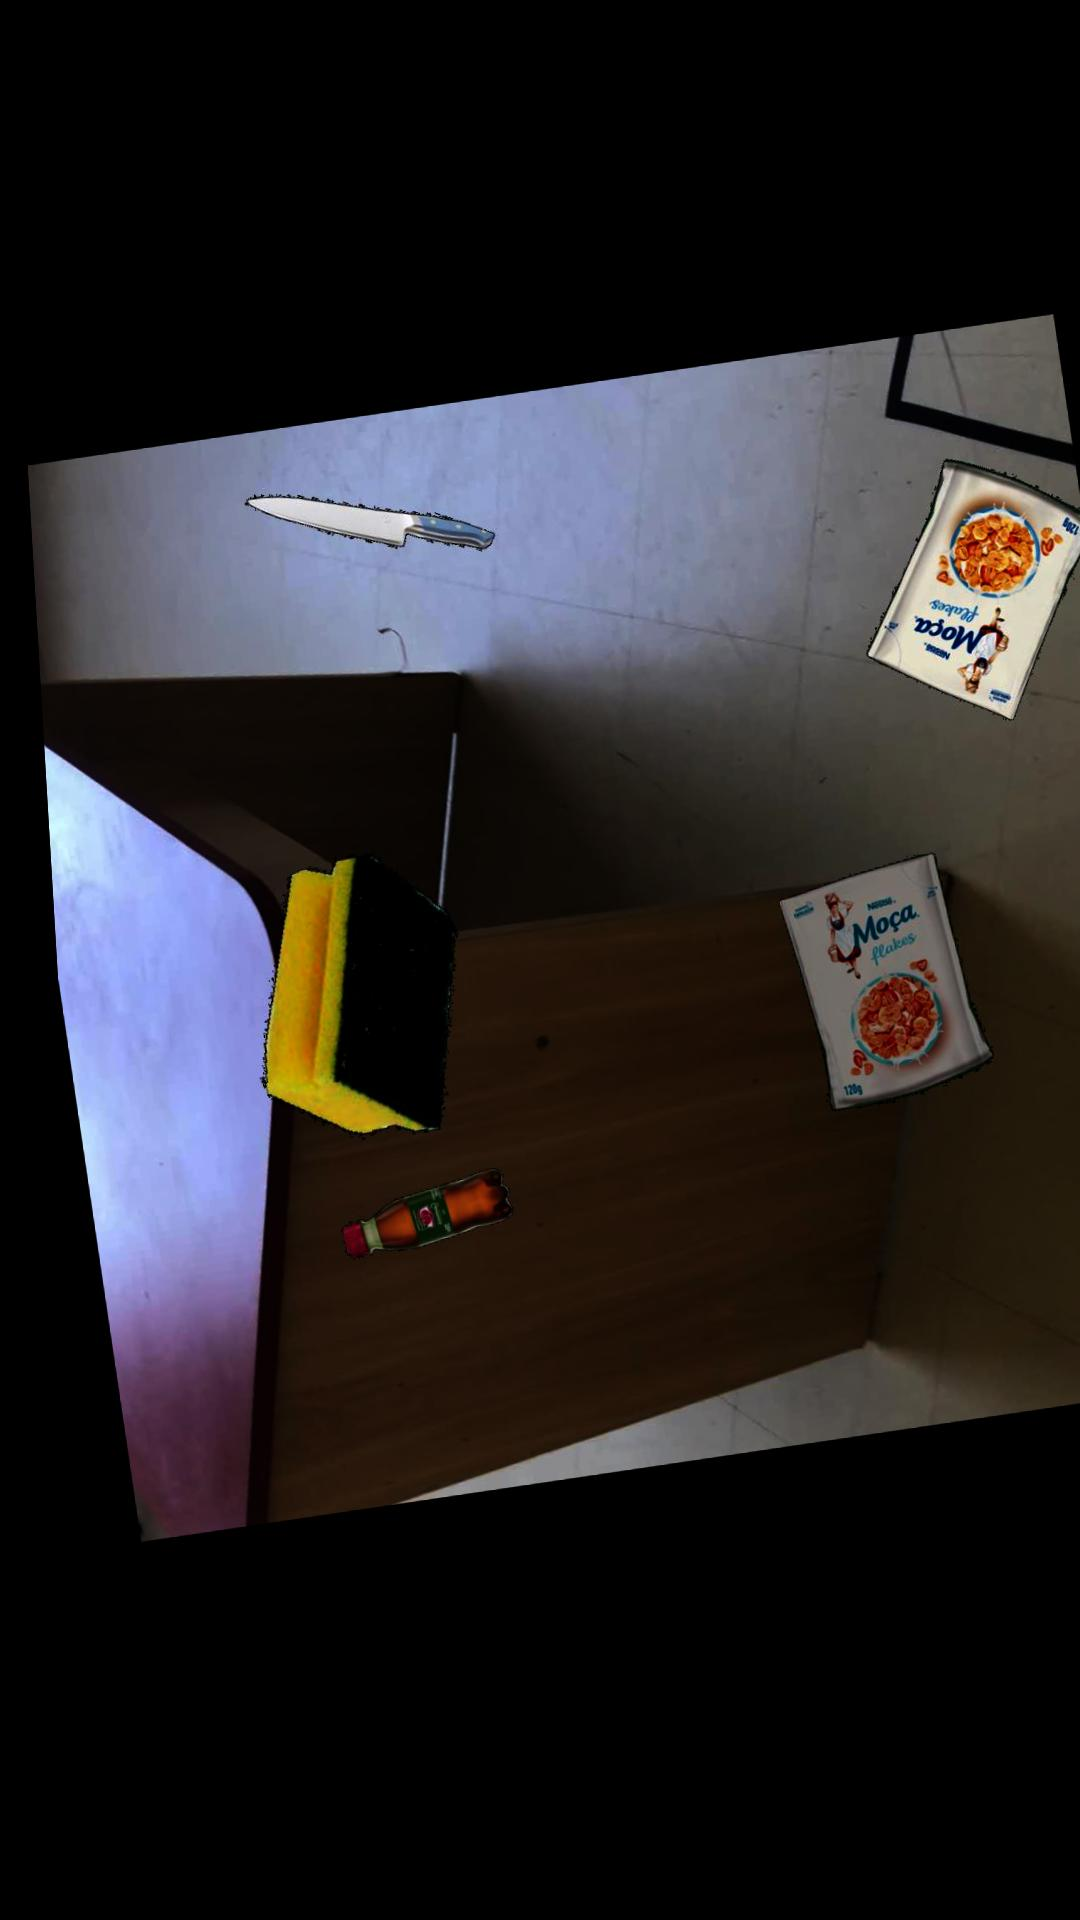corn flakes: (855, 469, 1079, 732), (764, 864, 977, 1120)
guarana: (322, 1172, 495, 1261)
knife: (236, 496, 485, 554)
sponge: (244, 857, 442, 1138)
